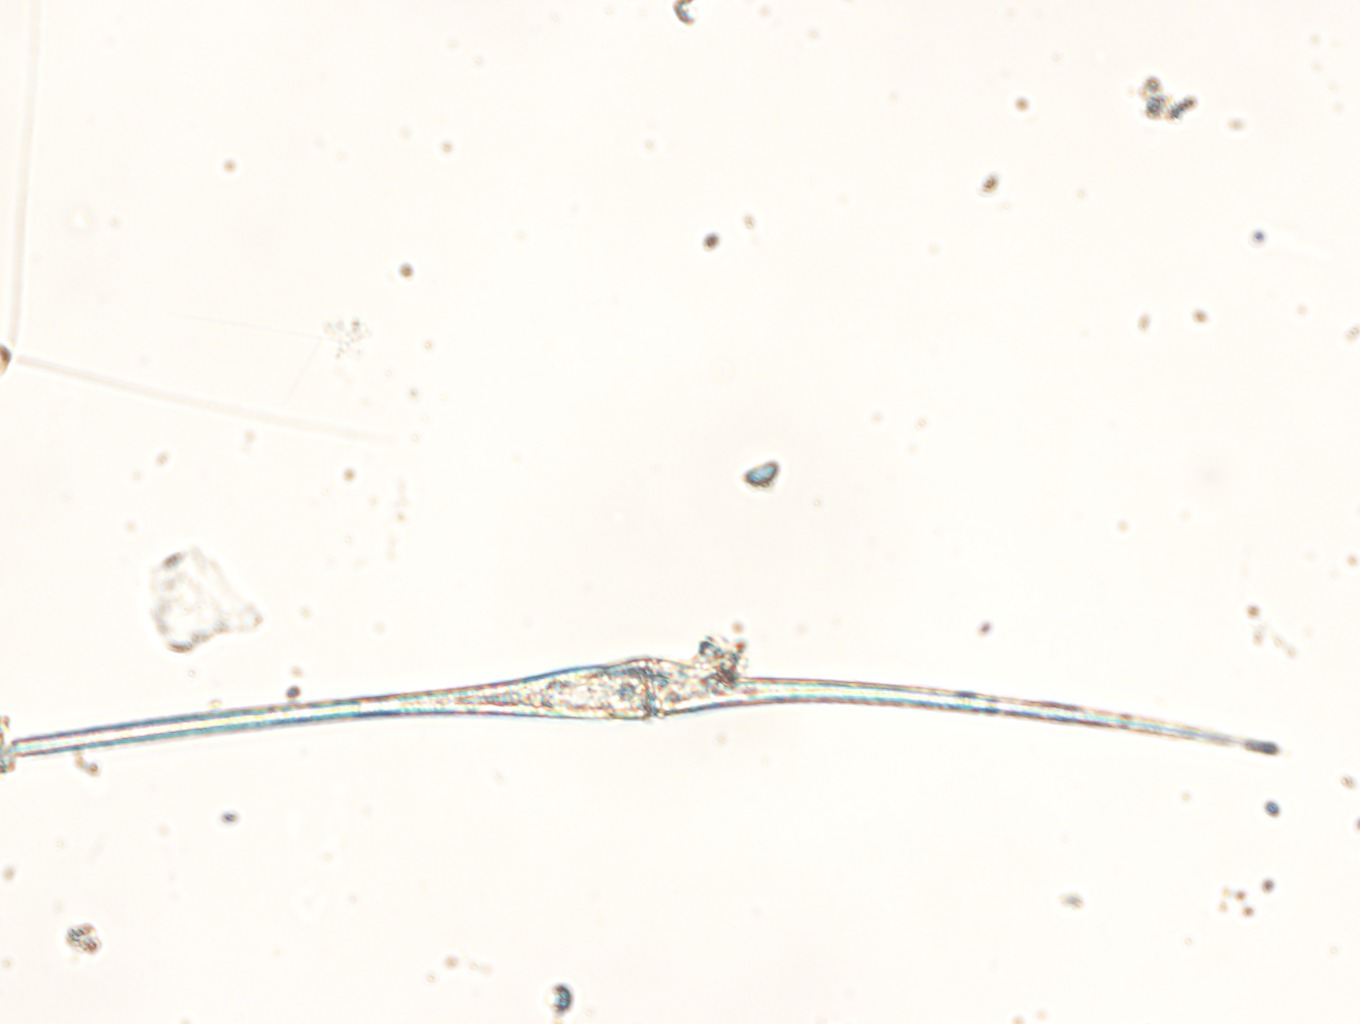ceratium fusus: (1, 655, 1277, 759)
